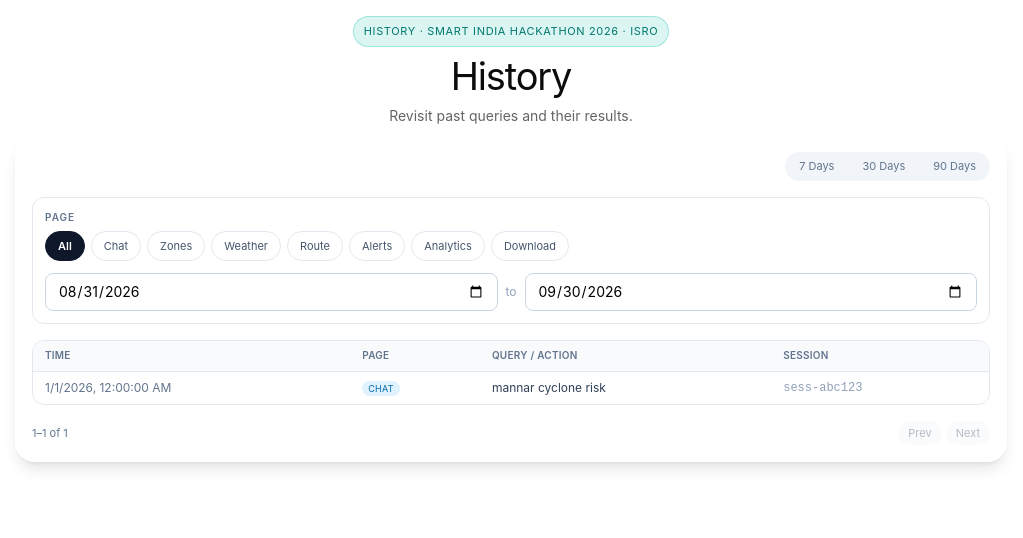
it: HistoryPage — row detail › shows a detail error banner when the record fetch fails, without breaking the list
What coordinates should you click on to do the following:
click the text "mannar cyclone risk"
I would click on:
 (549, 387)
Its box is [480,371,771,404].
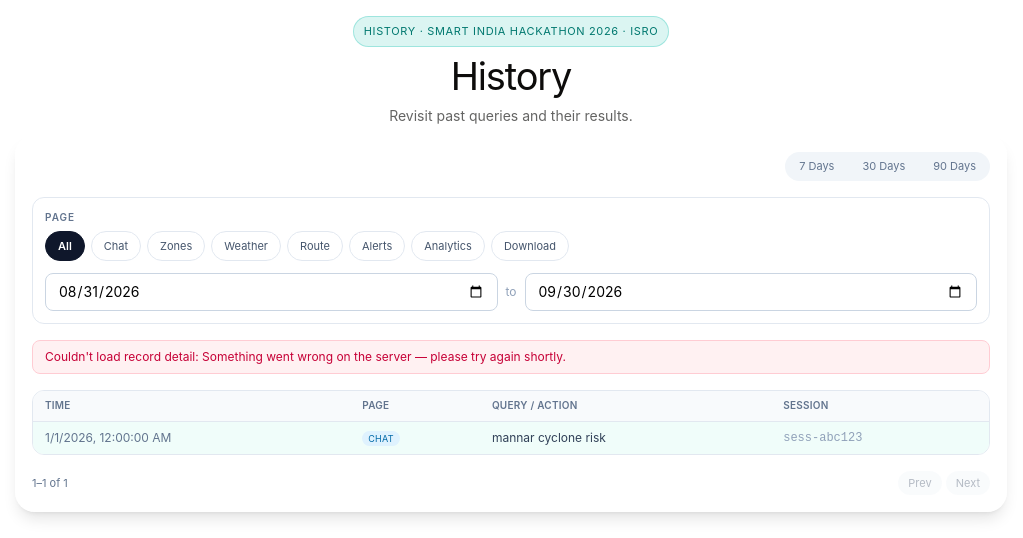
Result: the text "Couldn't load record detail" is shown at [45,349,202,364]
